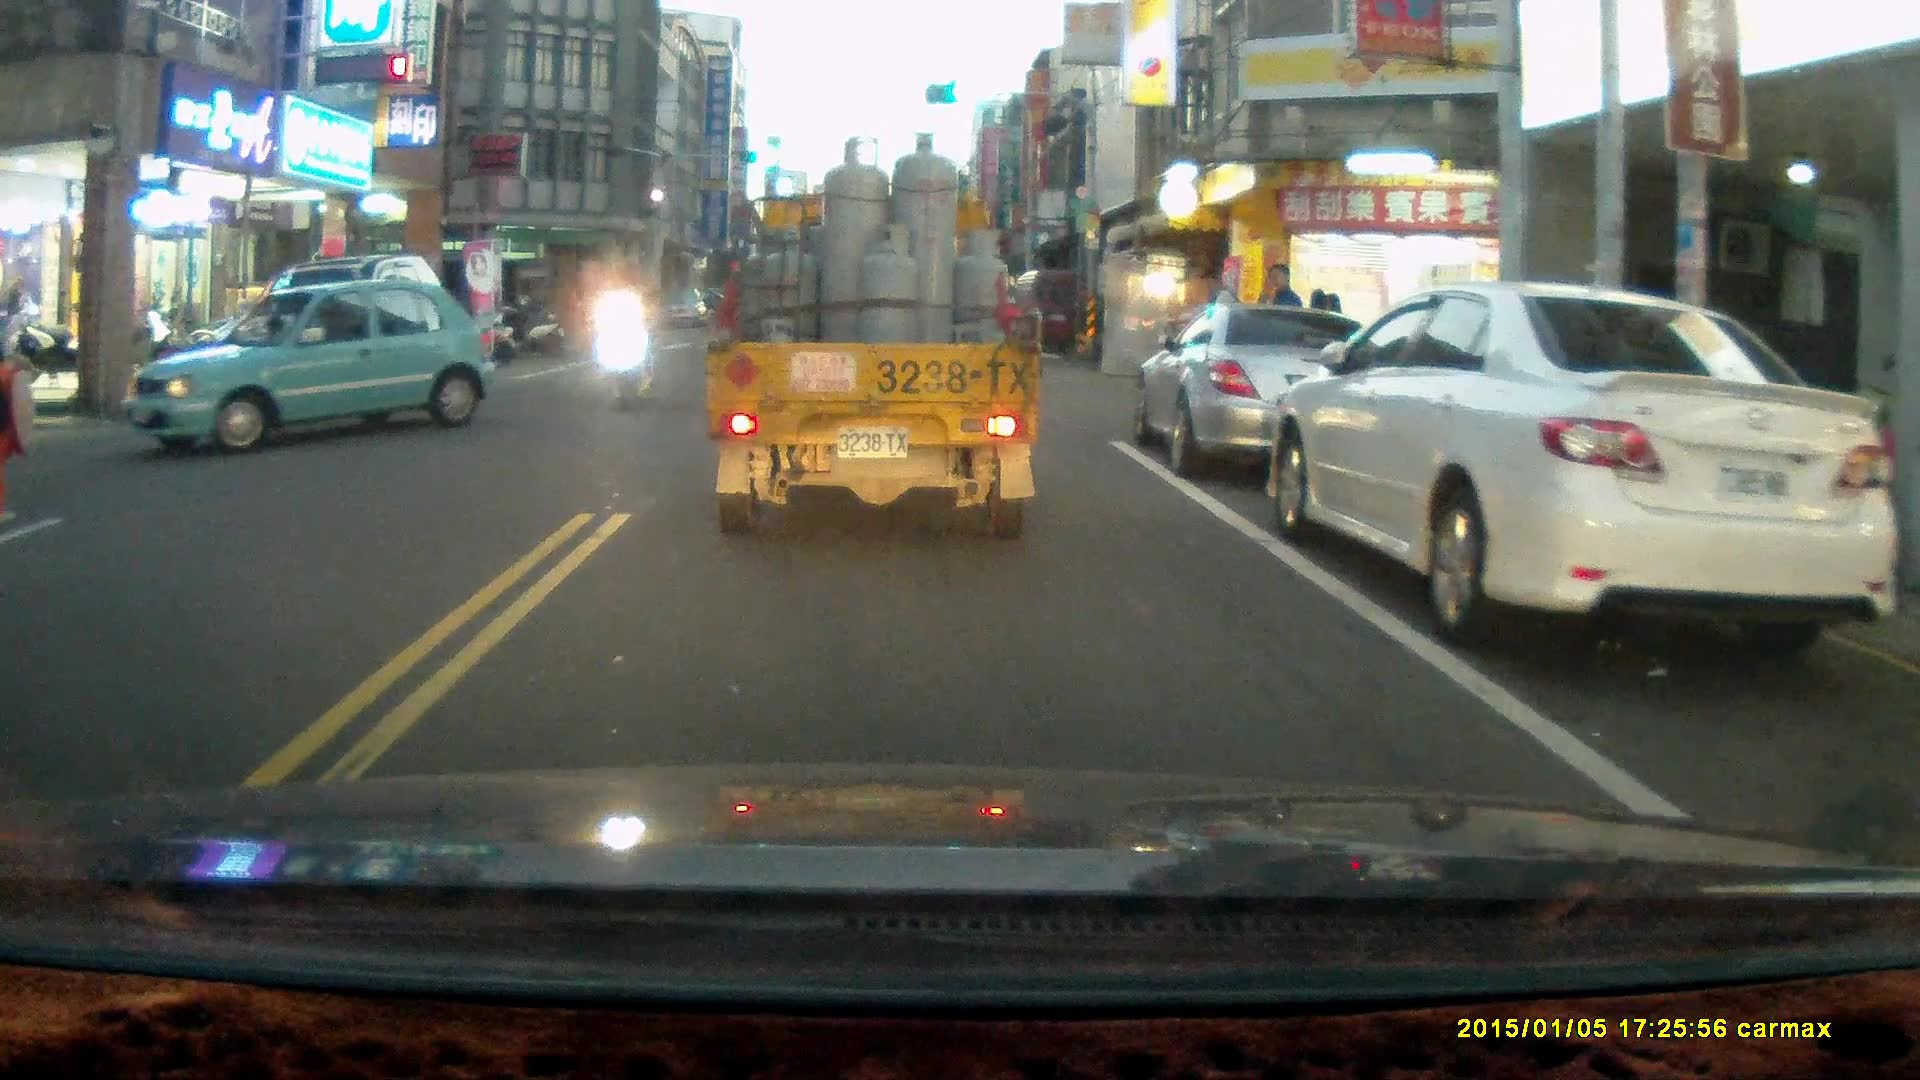rider: (599, 261, 652, 414)
vehicle: (1266, 282, 1899, 653), (704, 132, 1047, 539), (127, 281, 499, 456), (1137, 300, 1392, 477), (1008, 268, 1095, 358), (656, 288, 711, 331)
